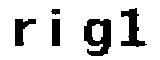1: (116, 7, 148, 55)
g: (79, 15, 115, 60)
i: (48, 5, 73, 52)
r: (10, 17, 38, 50)
